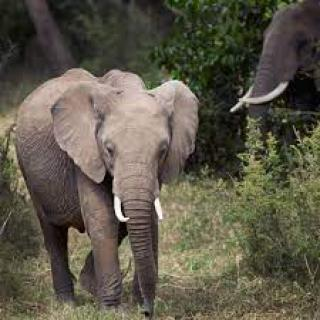Elephant: (6, 58, 199, 320)
